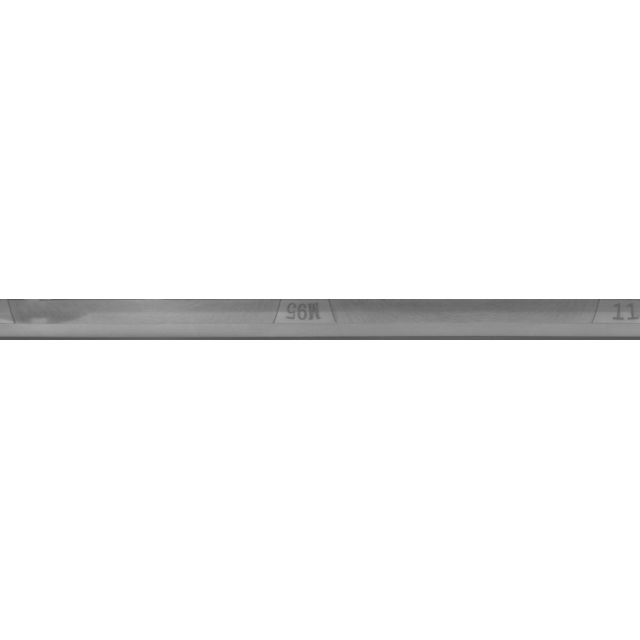mohao: (201, 270, 401, 370)
xuehao: (527, 270, 640, 370)
